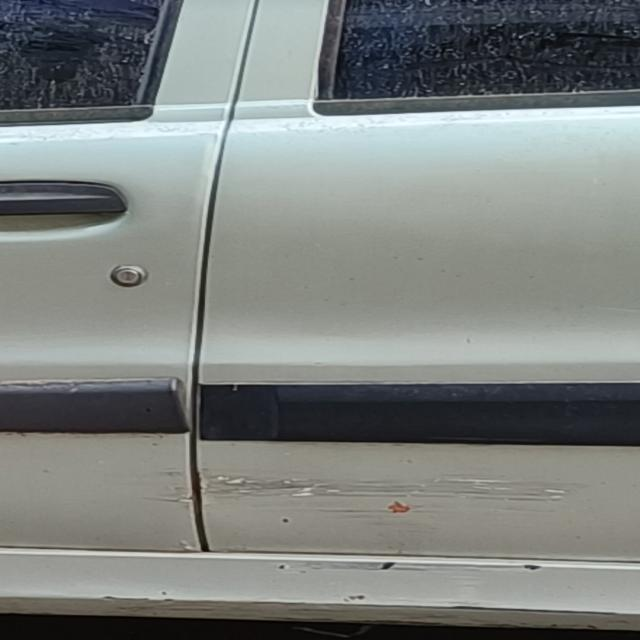scratch: (154, 468, 583, 514), (278, 556, 555, 576)
